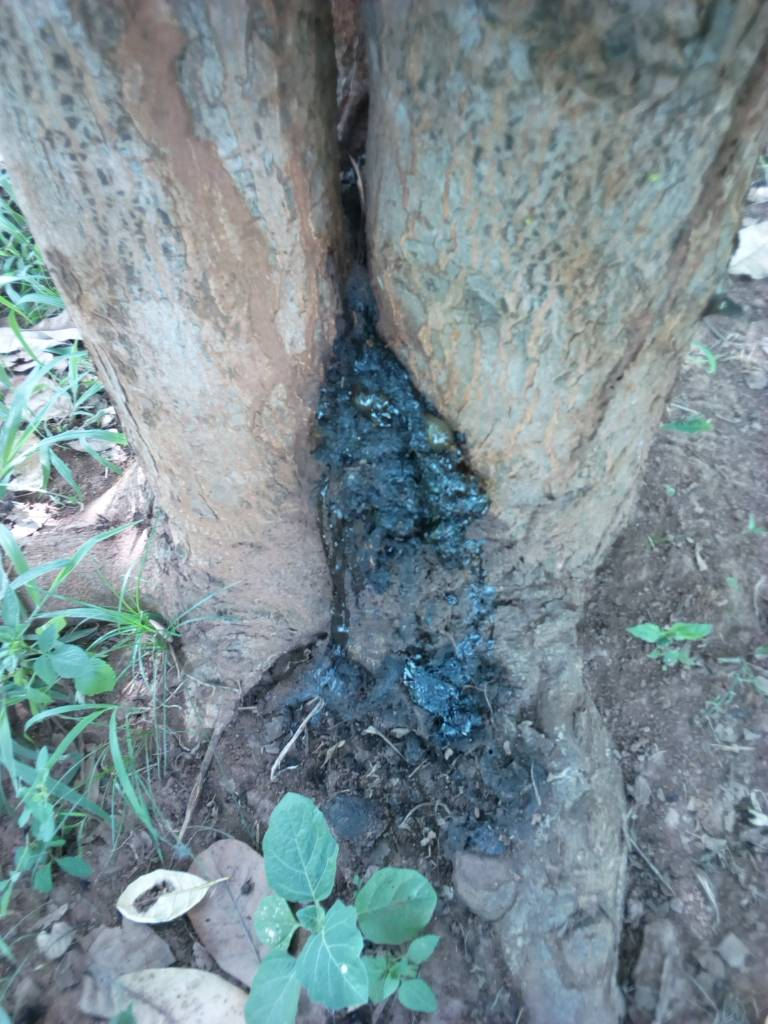Gommose: (322, 303, 557, 849)
